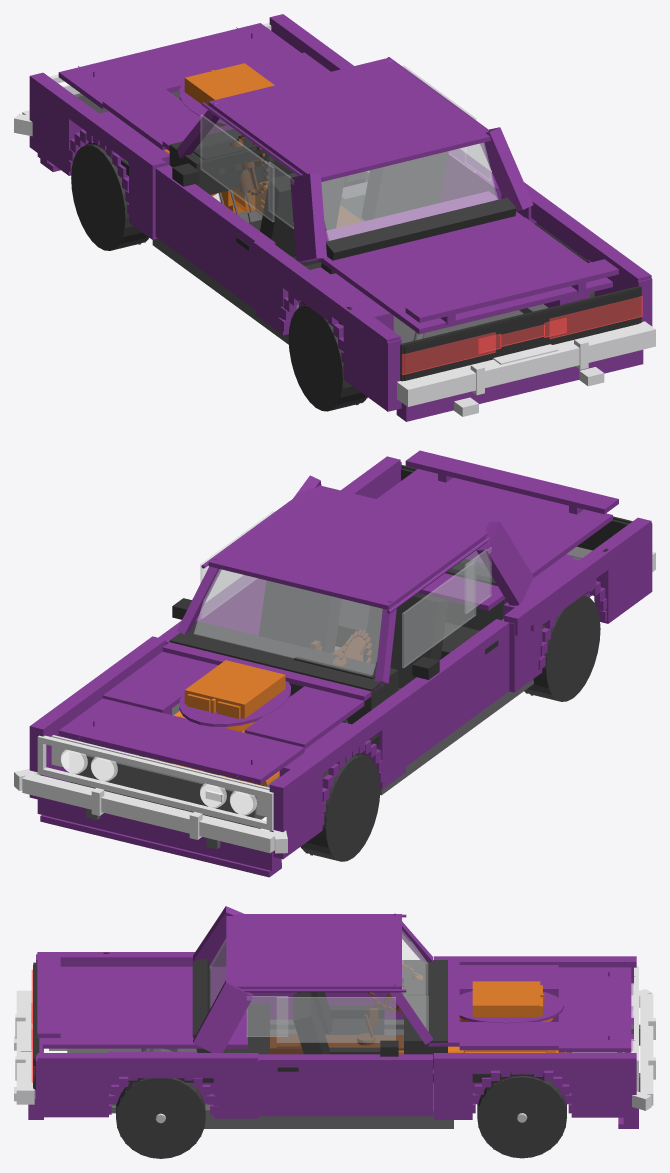
Rendered from Car_Dodge_Challenger_1970s_Complete.glb.
3 views of the same model, one above another, from view 1: azimuth 30°, elevation 25°; view 2: azimuth 150°, elevation 25°; view 3: azimuth 270°, elevation 25° (orthographic). The views are drawn at different scales.
Parts seen in each view (by area): view 1: BODY_Flanks_And_Valances, BODY_Greenhouse_Roof_Structure, BODY_Trunk_And_Rear_Spoiler, GLASS_Greenhouse_Windows, BODY_Hood_Shaker_Cutout, INTERIOR_Seats_Vinyl, FASCIA_Rear_Tail_Blackout_Panel, BUMPER_Rear_Bright_Chrome, TIRE_FR, TIRE_RR, LIGHTS_Rear_Full_Width_Taillights, INTERIOR_Dashboard_And_Rallye_Gauges (+5 smaller); view 2: BODY_Flanks_And_Valances, BODY_Greenhouse_Roof_Structure, BODY_Hood_Shaker_Cutout, GLASS_Greenhouse_Windows, BODY_Trunk_And_Rear_Spoiler, INTERIOR_Seats_Vinyl, BUMPER_Front_Bright_Chrome, INTERIOR_Dashboard_And_Rallye_Gauges, CHASSIS_E_Body_Platform, GRILLE_Front_Assembly, TIRE_FR, TIRE_RR (+4 smaller); view 3: BODY_Flanks_And_Valances, BODY_Greenhouse_Roof_Structure, BODY_Trunk_And_Rear_Spoiler, BODY_Hood_Shaker_Cutout, GLASS_Greenhouse_Windows, INTERIOR_Seats_Vinyl, TIRE_FL, TIRE_RL, CHASSIS_E_Body_Platform, INTERIOR_Dashboard_And_Rallye_Gauges, POWERTRAIN_426_Street_Hemi_And_A833, BUMPER_Rear_Bright_Chrome (+5 smaller).
Part boxes in pixels (x1,y1,x2,y2): BODY_Flanks_And_Valances: [29, 14, 652, 421]; BODY_Greenhouse_Roof_Structure: [176, 57, 533, 262]; BODY_Trunk_And_Rear_Spoiler: [318, 191, 618, 334]; GLASS_Greenhouse_Windows: [195, 65, 497, 240]; BODY_Hood_Shaker_Cutout: [58, 23, 330, 150]; INTERIOR_Seats_Vinyl: [249, 151, 516, 274]; FASCIA_Rear_Tail_Blackout_Panel: [400, 286, 641, 381]; BUMPER_Rear_Bright_Chrome: [397, 321, 655, 406]; TIRE_FR: [71, 144, 149, 250]; TIRE_RR: [288, 305, 367, 411]; LIGHTS_Rear_Full_Width_Taillights: [402, 296, 642, 374]; INTERIOR_Dashboard_And_Rallye_Gauges: [169, 129, 293, 194]; BODY_Flanks_And_Valances: [29, 456, 652, 877]; BODY_Greenhouse_Roof_Structure: [176, 475, 533, 683]; BODY_Hood_Shaker_Cutout: [58, 642, 383, 784]; GLASS_Greenhouse_Windows: [194, 511, 495, 675]; BODY_Trunk_And_Rear_Spoiler: [376, 450, 618, 610]; INTERIOR_Seats_Vinyl: [258, 559, 507, 724]; BUMPER_Front_Bright_Chrome: [14, 769, 287, 853]; INTERIOR_Dashboard_And_Rallye_Gauges: [169, 621, 398, 720]; CHASSIS_E_Body_Platform: [69, 557, 591, 848]; GRILLE_Front_Assembly: [37, 735, 273, 830]; TIRE_FR: [300, 755, 380, 861]; TIRE_RR: [524, 595, 600, 701]; BODY_Flanks_And_Valances: [28, 952, 638, 1128]; BODY_Greenhouse_Roof_Structure: [193, 906, 432, 1052]; BODY_Trunk_And_Rear_Spoiler: [37, 953, 247, 1048]; BODY_Hood_Shaker_Cutout: [428, 961, 634, 1052]; GLASS_Greenhouse_Windows: [209, 930, 428, 1042]; INTERIOR_Seats_Vinyl: [192, 958, 384, 1054]; TIRE_FL: [477, 1071, 566, 1158]; TIRE_RL: [116, 1078, 205, 1158]; CHASSIS_E_Body_Platform: [67, 1019, 640, 1128]; INTERIOR_Dashboard_And_Rallye_Gauges: [402, 960, 447, 1069]; POWERTRAIN_426_Street_Hemi_And_A833: [398, 981, 571, 1073]; BUMPER_Rear_Bright_Chrome: [15, 990, 34, 1104].
Size of the model in its own units: 2.01 by 1.38 by 4.94.
